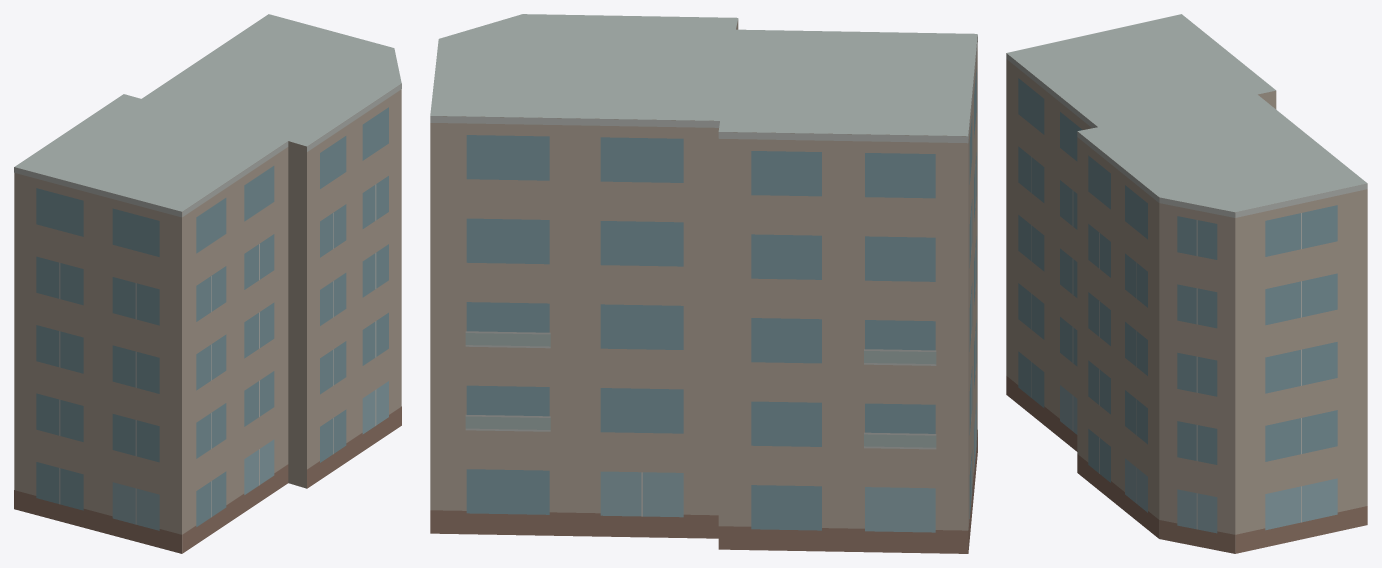
The model's file is survey-upis-32722368.glb.
3 views of the same model, side by side, from view 1: azimuth 30°, elevation 25°; view 2: azimuth 150°, elevation 25°; view 3: azimuth 270°, elevation 25° (orthographic). The views are drawn at different scales.
Visible parts, largest first — view 1: survey-upis-32722368.tmp; view 2: survey-upis-32722368.tmp; view 3: survey-upis-32722368.tmp.
Boxes of the visible parts, <box> form: survey-upis-32722368.tmp: <box>14,14,401,553</box>; survey-upis-32722368.tmp: <box>430,14,977,553</box>; survey-upis-32722368.tmp: <box>1006,14,1367,553</box>.
Size of the model in its own units: 18.07 by 14.51 by 13.92.
